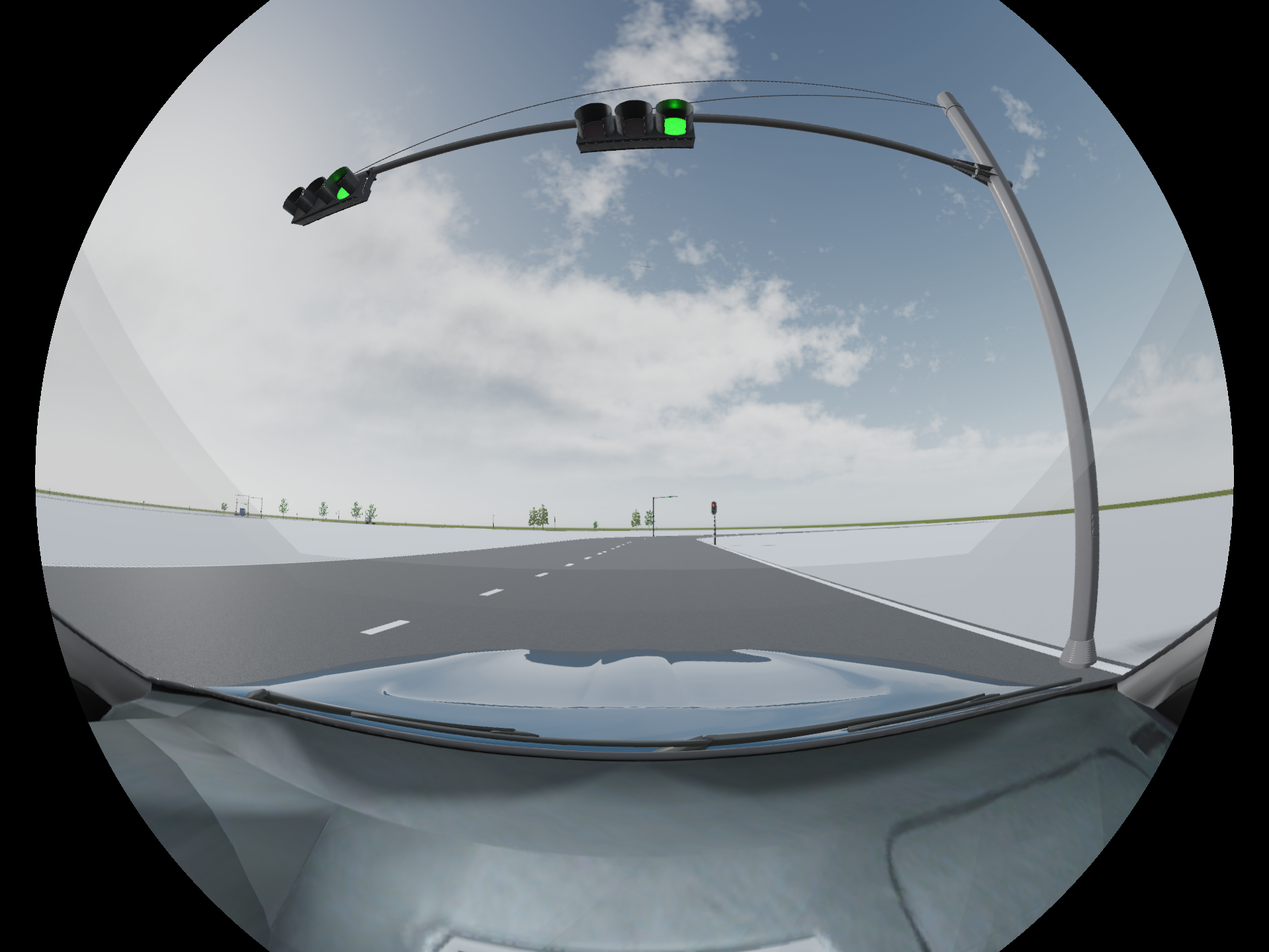Green Light: (574, 99, 697, 154), (281, 170, 376, 217)
